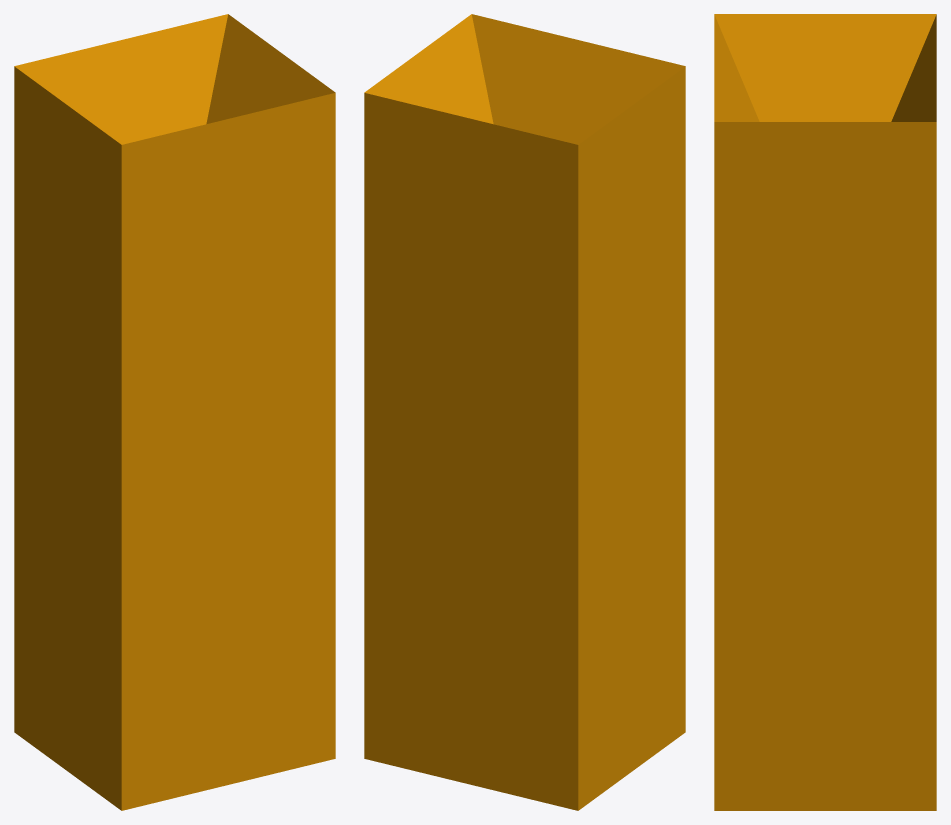
The model's file is pistol_shell.glb.
3 renders of one model, left to right at view 1: azimuth 30°, elevation 25°; view 2: azimuth 150°, elevation 25°; view 3: azimuth 270°, elevation 25°, orthographic. The views are drawn at different scales.
Parts seen in each view (by area): view 1: pistlo shell; view 2: pistlo shell; view 3: pistlo shell.
Boxes of the visible parts, x1,y1,x2,y2 form: pistlo shell: [14, 14, 335, 810]; pistlo shell: [364, 14, 685, 810]; pistlo shell: [714, 14, 936, 810].
Bounding box in the file's own units: 0.0433 × 0.1288 × 0.0377.
